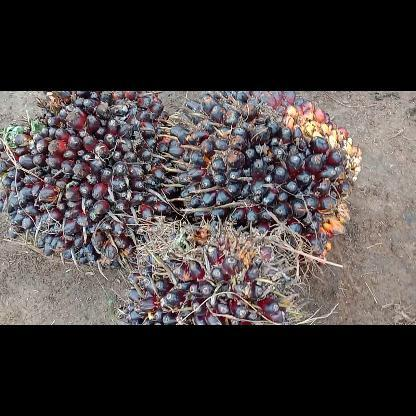TBS mentah: (163, 91, 363, 271), (0, 91, 179, 274), (116, 222, 304, 324)
